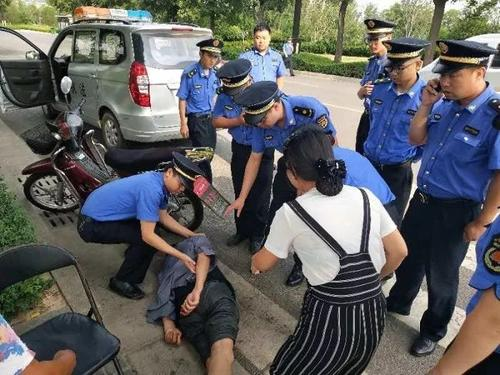10+: (1, 16, 500, 375)
down: (144, 232, 243, 375)
